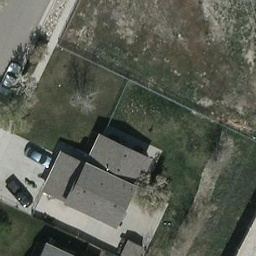car: (6, 178, 34, 208), (1, 64, 19, 95), (27, 147, 51, 168)
